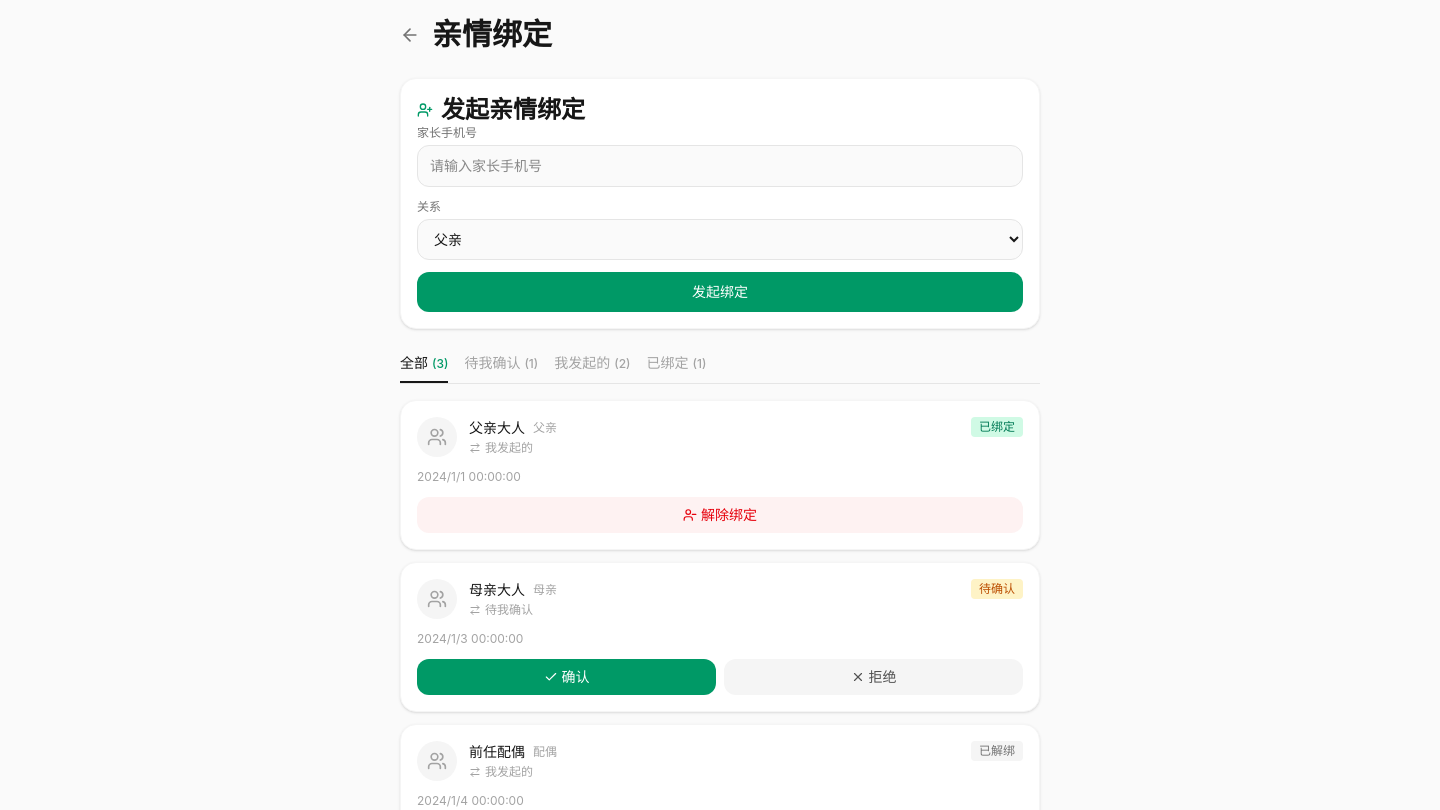
Test: FamilyBinding 解绑流程 › 点击"解除绑定"打开确认弹窗
The image size is (1440, 810).
Check: the text "父亲大人" is shown, box [469,418,525,438]
Check: the text "确认解除绑定" is not shown
点击解除绑定按钮：userEvent 自动包裹 async act，等待所有微任务 flush
Click the button "解除绑定" at {"x": 720, "y": 514}, box [417,496,1023,532]
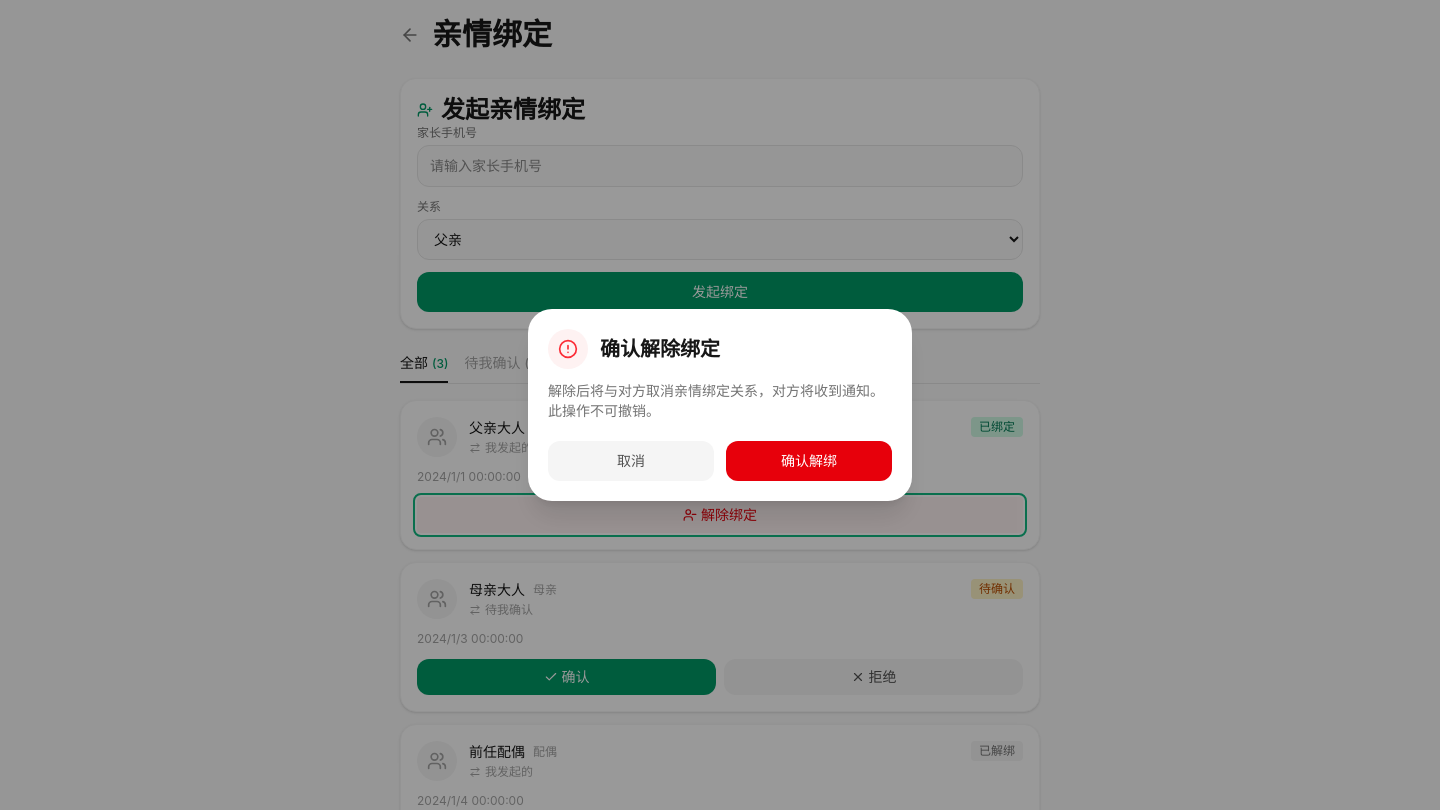
Check: the heading "确认解除绑定" is shown, box [600,336,720,362]
Check: the text "解除后将与对方取消亲情绑定关系，对方将收到通知。此操作不可撤销。" is shown, box [548,381,892,421]
Check: the button "取消" is shown, box [548,441,714,481]
